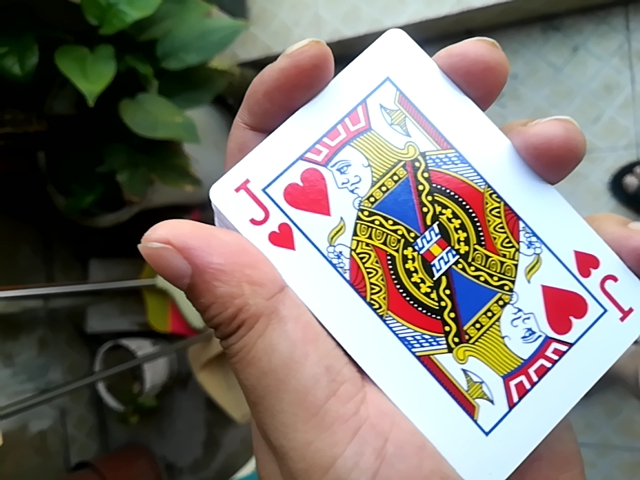hx j: (182, 20, 633, 480)
